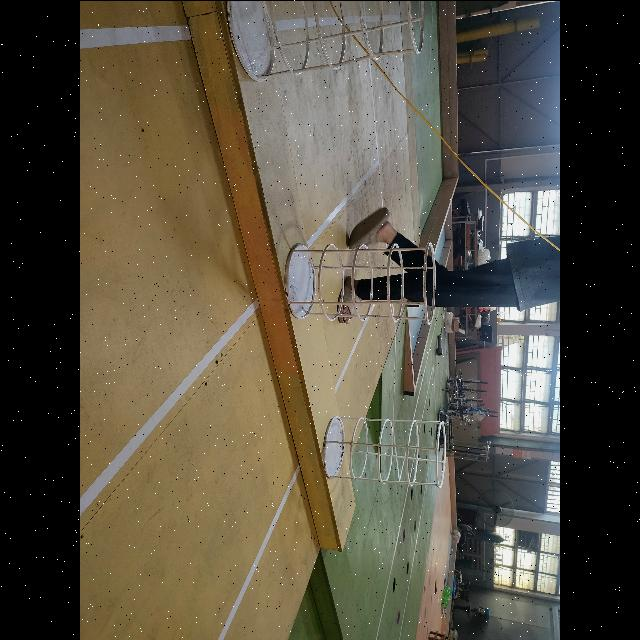S: (221, 0, 431, 82), (282, 237, 438, 325), (321, 412, 449, 488), (281, 324, 285, 326)
